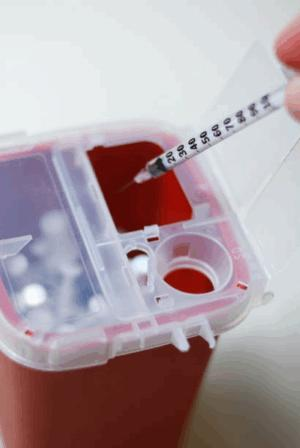Syringe: (132, 85, 285, 183)
